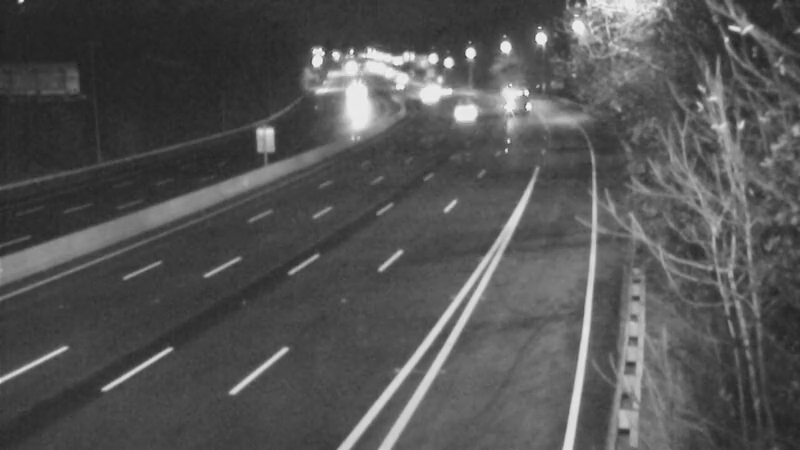vehicle: (375, 54, 425, 104), (422, 65, 472, 115), (403, 76, 453, 126), (484, 72, 534, 122), (438, 89, 488, 139), (331, 77, 381, 127)
